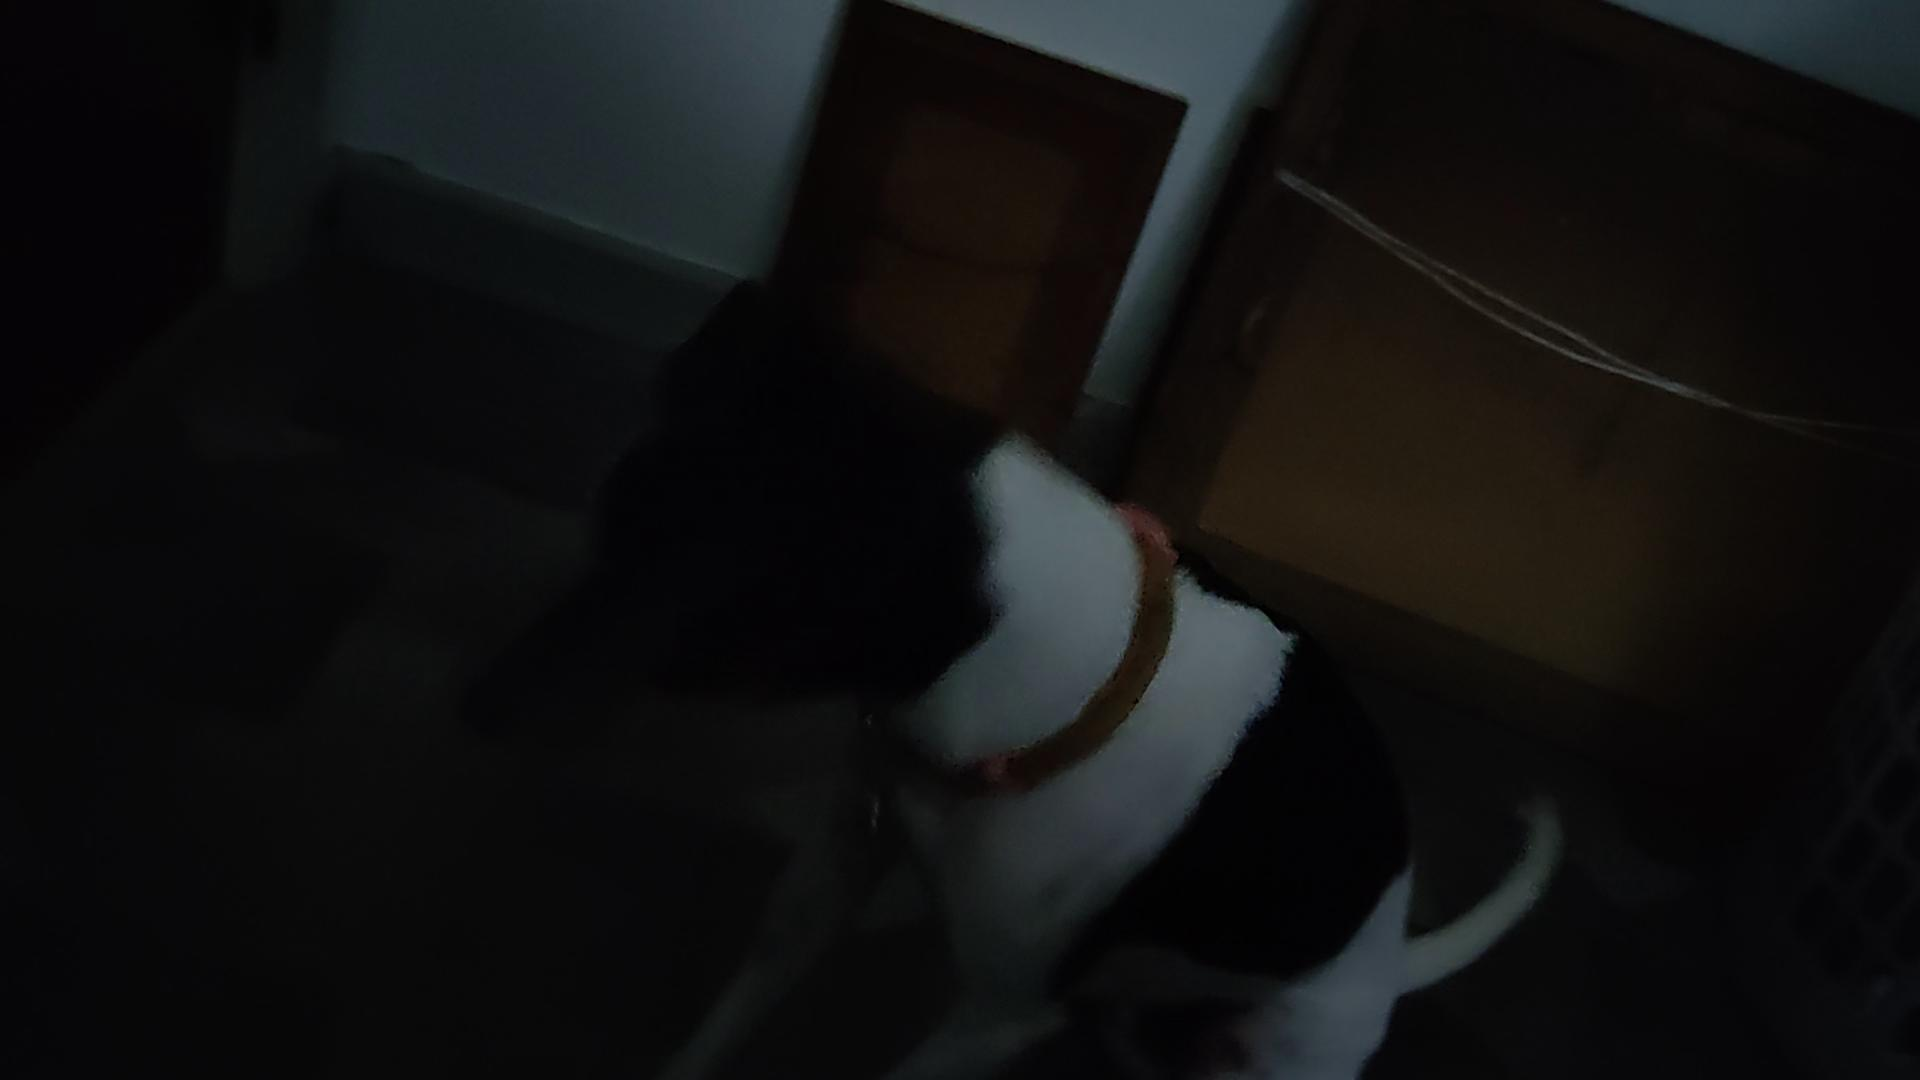Dog: (443, 266, 1578, 1079)
